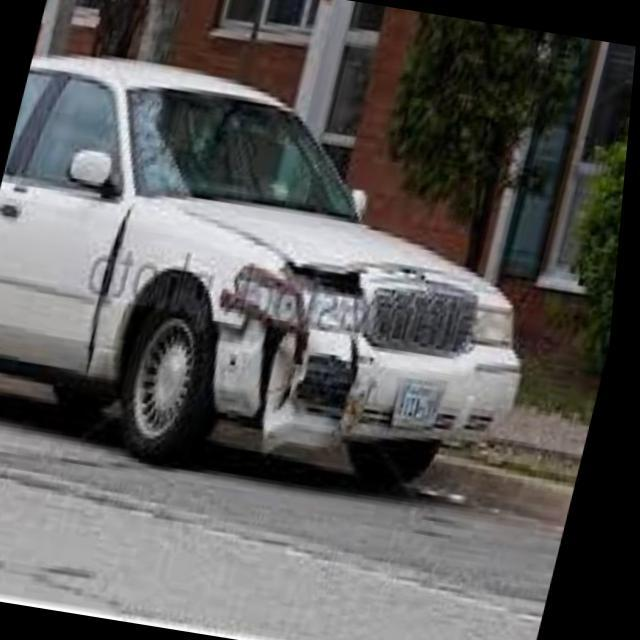crack: (77, 197, 387, 452)
